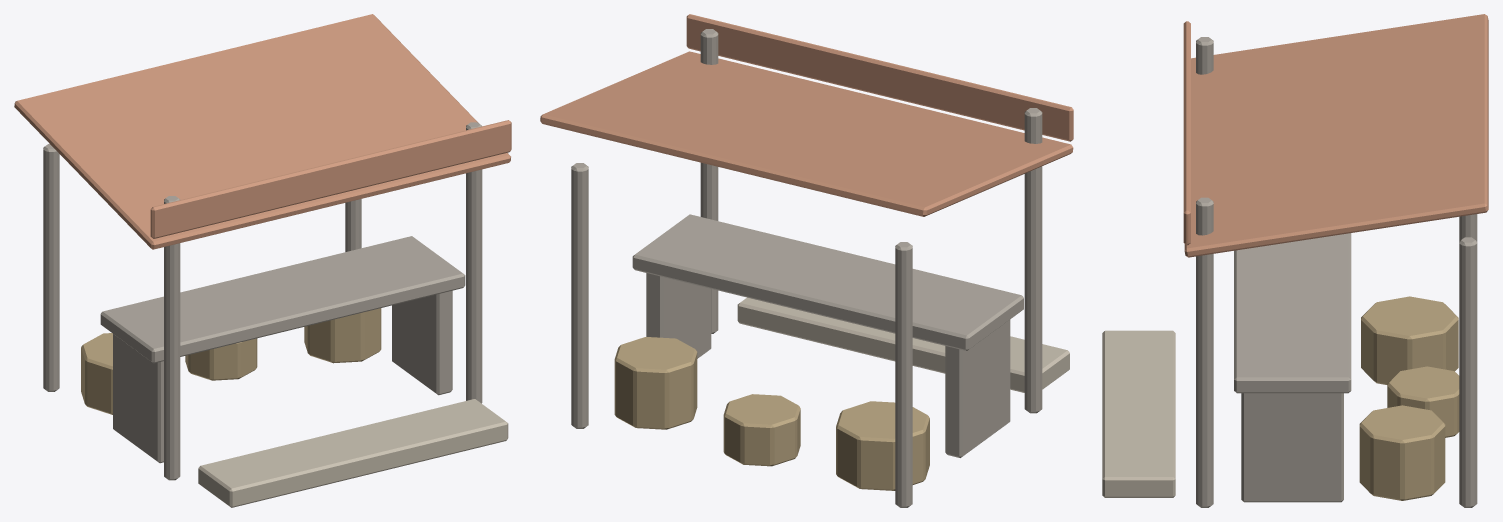
The model's file is TC_ENV_MarketStall_V1.gltf.
3 renders of one model, left to right at view 1: azimuth 30°, elevation 25°; view 2: azimuth 150°, elevation 25°; view 3: azimuth 270°, elevation 25°, orthographic. The views are drawn at different scales.
Parts seen in each view (by area): view 1: TC_ENV_MarketStall_V1; view 2: TC_ENV_MarketStall_V1; view 3: TC_ENV_MarketStall_V1.
Boxes of the visible parts, bbox=[...] form: TC_ENV_MarketStall_V1: bbox=[14, 14, 511, 507]; TC_ENV_MarketStall_V1: bbox=[540, 14, 1073, 507]; TC_ENV_MarketStall_V1: bbox=[1102, 14, 1488, 507].
Size of the model in its own units: 3.1 by 2.38 by 2.64.
